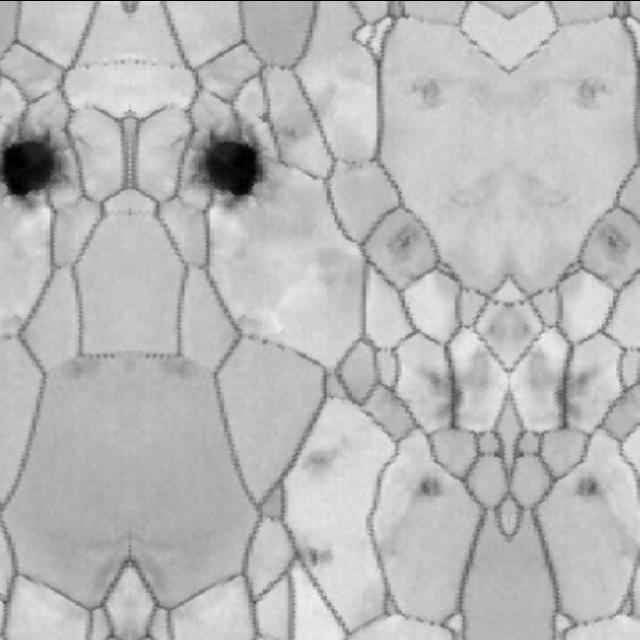good_void: (187, 121, 274, 208), (285, 404, 367, 490), (401, 353, 483, 434), (535, 354, 616, 435), (0, 124, 72, 208), (398, 57, 462, 129), (559, 58, 621, 129), (399, 454, 453, 506), (567, 455, 620, 505), (379, 212, 429, 264), (290, 530, 342, 576), (278, 113, 312, 149)
